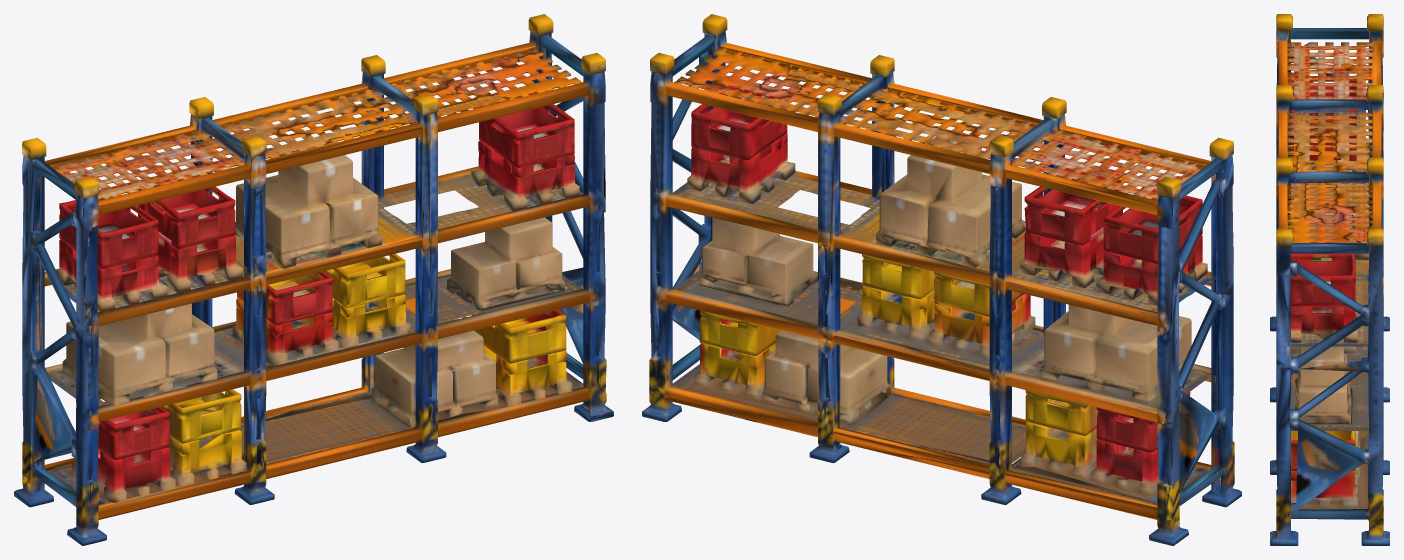
File: rack.glb
3 views of the same model, side by side, from view 1: azimuth 30°, elevation 25°; view 2: azimuth 150°, elevation 25°; view 3: azimuth 270°, elevation 25° (orthographic). The views are drawn at different scales.
Parts seen in each view (by area): view 1: tripo_node_baedeb78-fe9e-4418-bed0-9b4383106cd5; view 2: tripo_node_baedeb78-fe9e-4418-bed0-9b4383106cd5; view 3: tripo_node_baedeb78-fe9e-4418-bed0-9b4383106cd5.
Part boxes in pixels (x1,y1,x2,y2): tripo_node_baedeb78-fe9e-4418-bed0-9b4383106cd5: (14, 14, 613, 545); tripo_node_baedeb78-fe9e-4418-bed0-9b4383106cd5: (642, 14, 1241, 545); tripo_node_baedeb78-fe9e-4418-bed0-9b4383106cd5: (1270, 14, 1389, 545).
Bounding box in the file's own units: 0.9803 × 0.6273 × 0.2206.
1 material, 1 textured.
